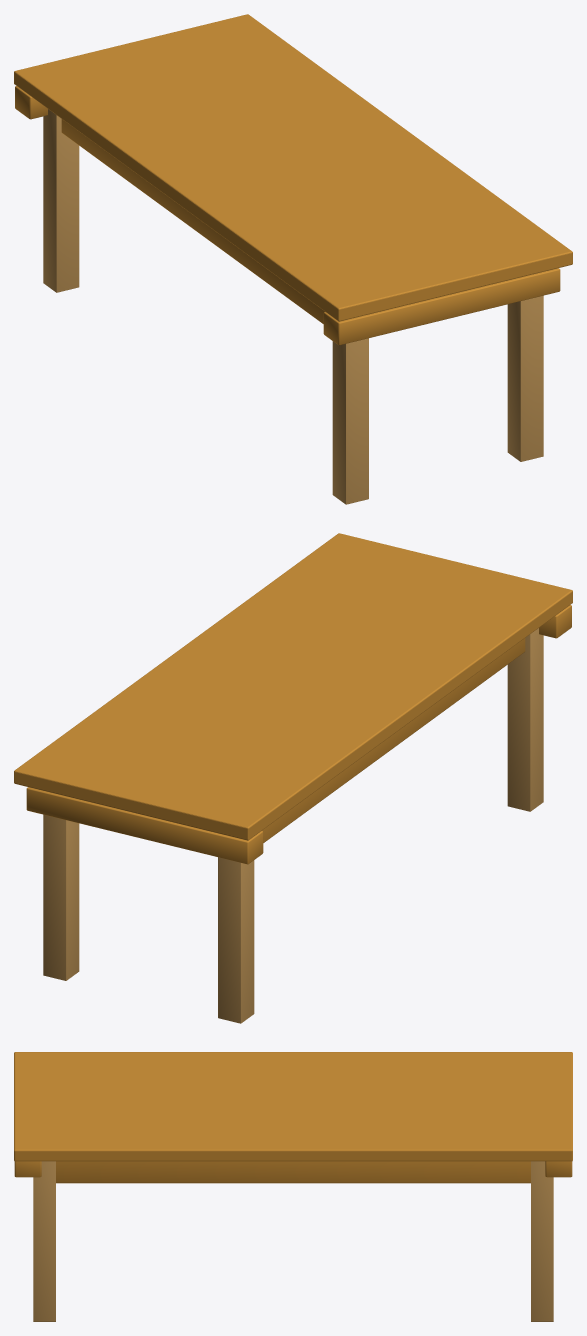
Rendered from ASM - PBR Metallic Roughness.fbx.
The picture shows the model from 3 angles, top to bottom: view 1: azimuth 30°, elevation 25°; view 2: azimuth 150°, elevation 25°; view 3: azimuth 270°, elevation 25°; orthographic projection. The views are drawn at different scales.
Parts seen in each view (by area): view 1: Cube, Cube.001, Cube.005, Cube.002; view 2: Cube, Cube.001, Cube.005, Cube.002; view 3: Cube, Cube.002, Cube.001, Cube.005.
Part boxes in pixels (x1=…): Cube: x1=14, y1=14, x2=572, y2=321; Cube.001: x1=43, y1=109, x2=543, y2=504; Cube.005: x1=15, y1=86, x2=560, y2=345; Cube.002: x1=61, y1=119, x2=324, y2=323; Cube: x1=14, y1=533, x2=572, y2=840; Cube.001: x1=43, y1=628, x2=543, y2=1023; Cube.005: x1=26, y1=605, x2=571, y2=864; Cube.002: x1=262, y1=638, x2=525, y2=842; Cube: x1=14, y1=1052, x2=572, y2=1161; Cube.002: x1=56, y1=1161, x2=530, y2=1183; Cube.001: x1=33, y1=1161, x2=553, y2=1321; Cube.005: x1=14, y1=1161, x2=572, y2=1177.
Bounding box in the file's own units: 92.71 × 78.74 × 222.
